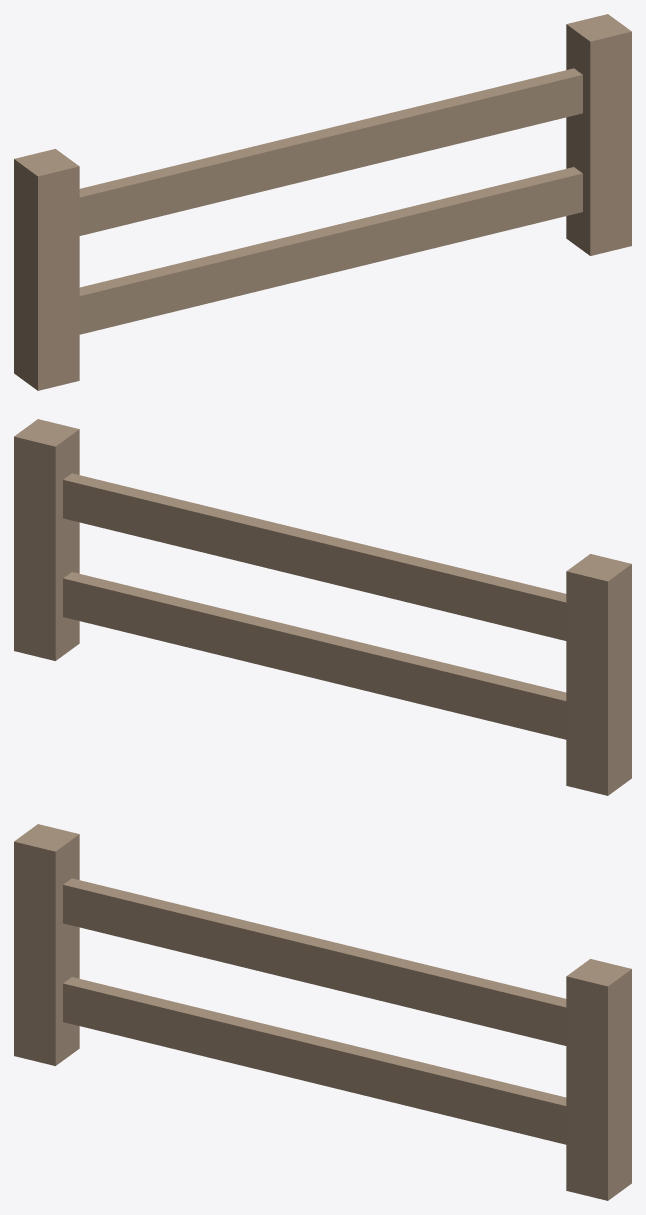
File: K_Fence.glb
3 renders of one model, top to bottom at view 1: azimuth 30°, elevation 25°; view 2: azimuth 150°, elevation 25°; view 3: azimuth 330°, elevation 25°, orthographic.
Parts seen in each view (by area): view 1: K_Fence; view 2: K_Fence; view 3: K_Fence.
Boxes of the visible parts, left/top/right/bottom form: K_Fence: left=14, top=14, right=631, bottom=390; K_Fence: left=14, top=419, right=631, bottom=795; K_Fence: left=14, top=824, right=631, bottom=1200.
Bounding box in the file's own units: 2.4 × 0.8281 × 0.168.
